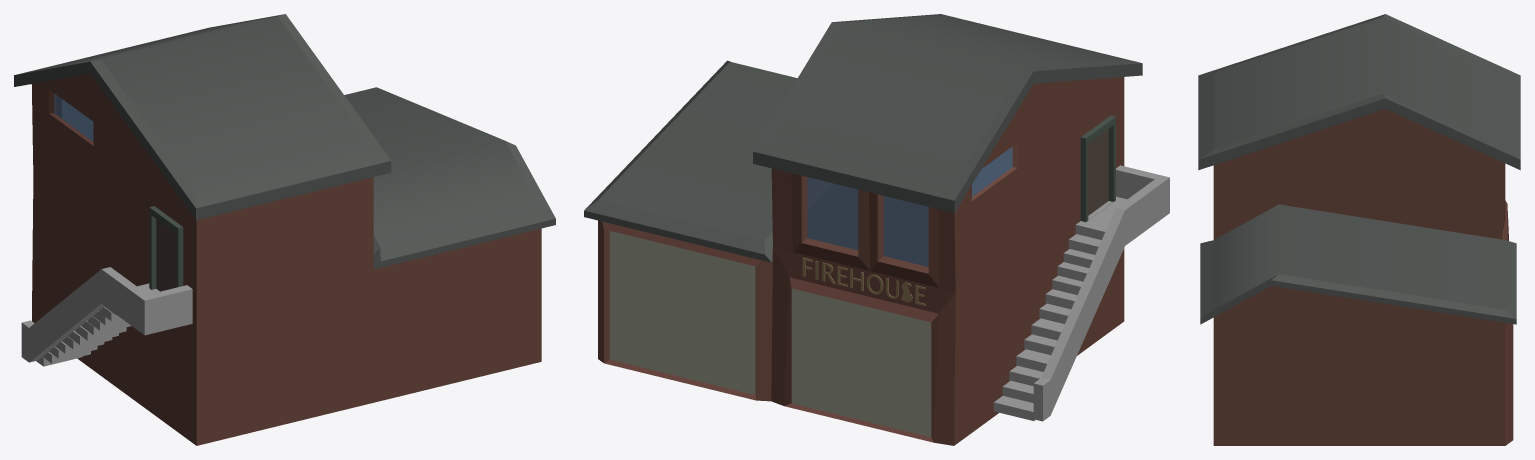
Rendered from FireHouse.fbx.
3 views of the same model, side by side, from view 1: azimuth 30°, elevation 25°; view 2: azimuth 150°, elevation 25°; view 3: azimuth 270°, elevation 25° (orthographic). The views are drawn at different scales.
Visible parts, largest first — view 1: Firehouse1; view 2: Firehouse1; view 3: Firehouse1.
Boxes of the visible parts, <box> form: Firehouse1: <box>14,14,555,445</box>; Firehouse1: <box>584,14,1169,445</box>; Firehouse1: <box>1198,14,1520,445</box>.
Size of the model in its own units: 20.41 by 15.43 by 16.09.
